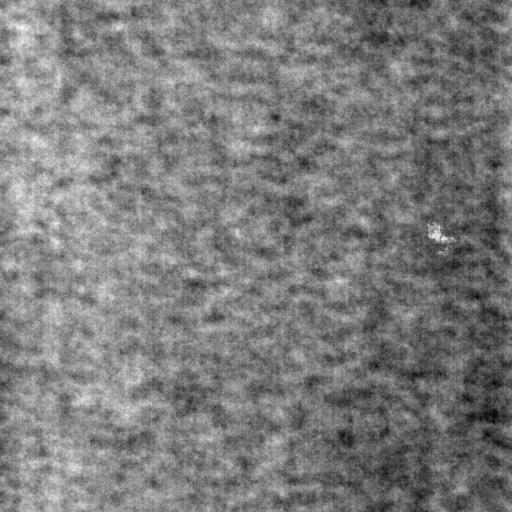DefectTypeA: (428, 219, 457, 253)
